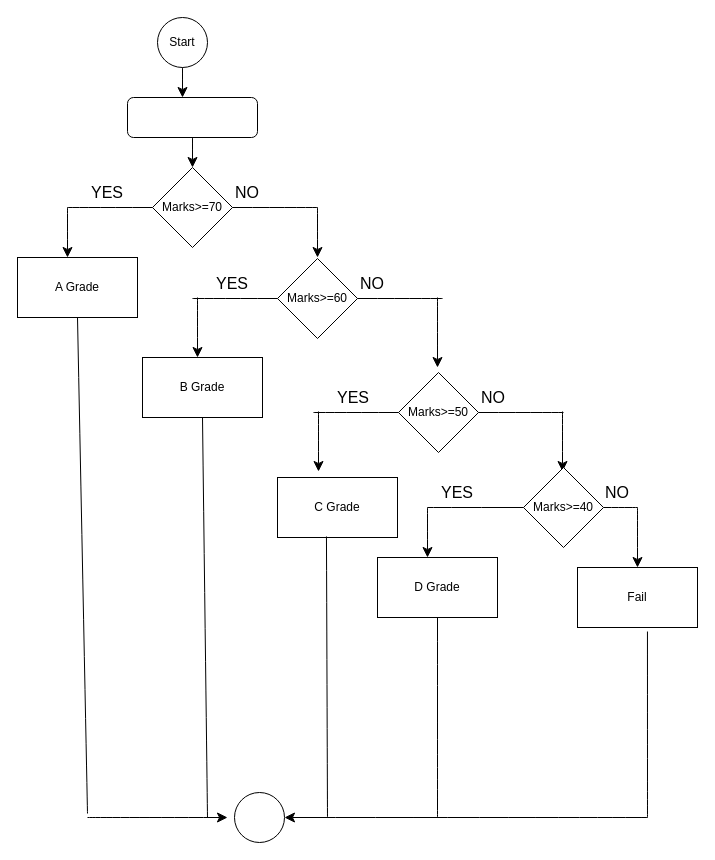
Image size: 715x860. Some labels were removed from this diagram. Each missing label, with the centre of its shape:
End: the point at 259,817
Enter Your Marks: the point at 192,117
